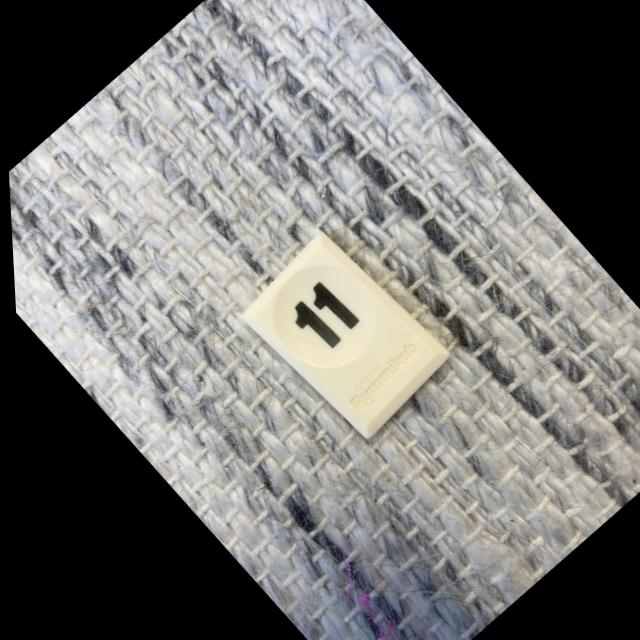black_11: (239, 232, 445, 438)
